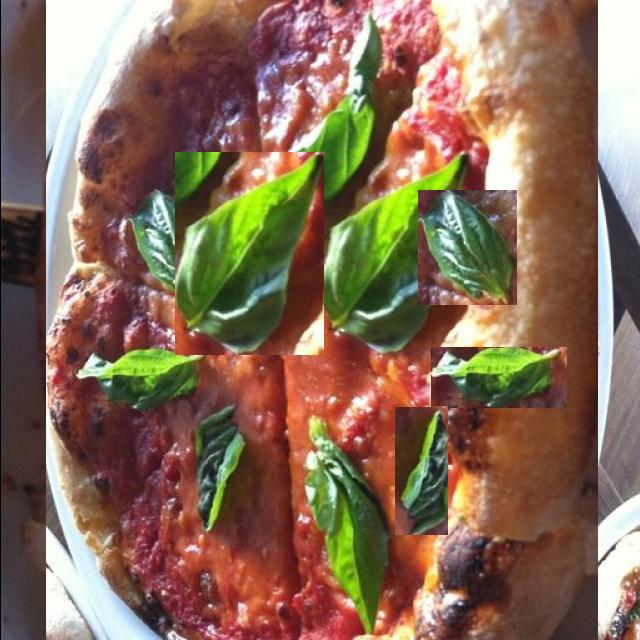basil: (264, 11, 399, 253), (174, 152, 323, 355), (246, 418, 345, 632), (417, 190, 516, 305), (430, 348, 566, 410), (392, 407, 447, 535)
pizza: (45, 0, 597, 640)
